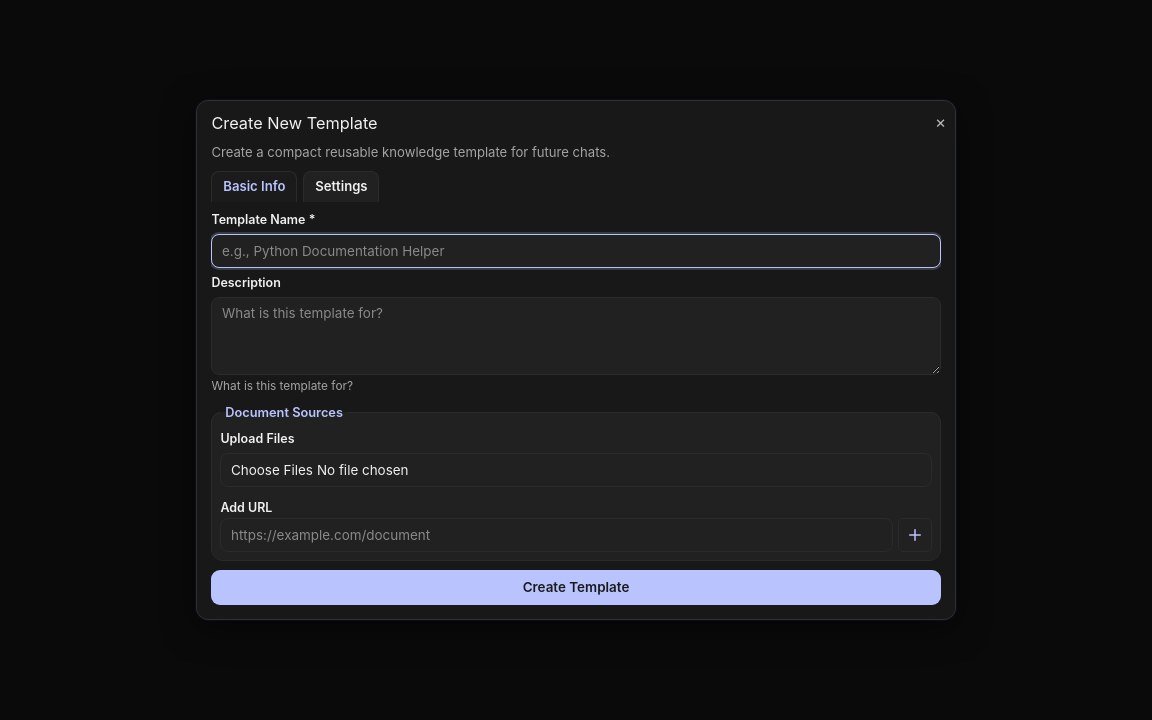
Test: TemplateBuilder — validation › shows error when submitting without a name
Expected: the heading "Create New Template" is shown, x1=211 y1=113 x2=378 y2=133
// Find submit button (may be on settings tab or via form submit)
Step 1. Click the button "Create Template" → (576, 587), box x1=211 y1=570 x2=941 y2=605
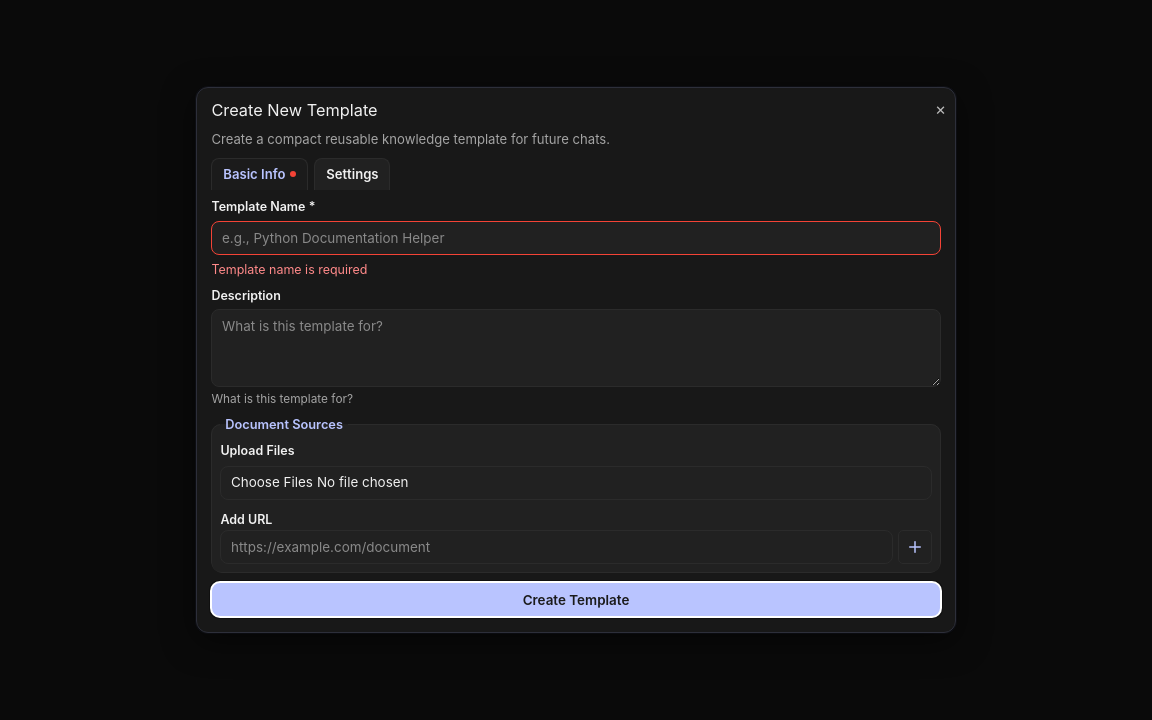
Expected: the text "Template name is required" is shown, x1=211 y1=262 x2=367 y2=277
